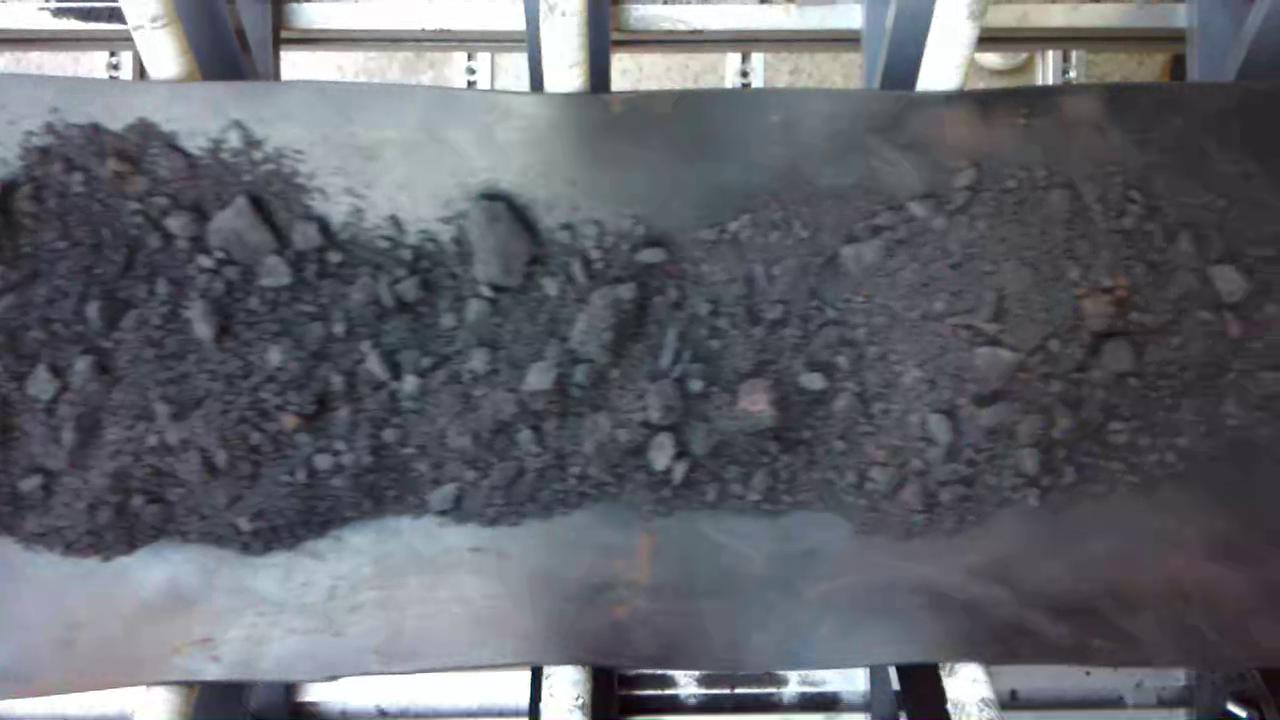conveyor: (4, 98, 1278, 658)
